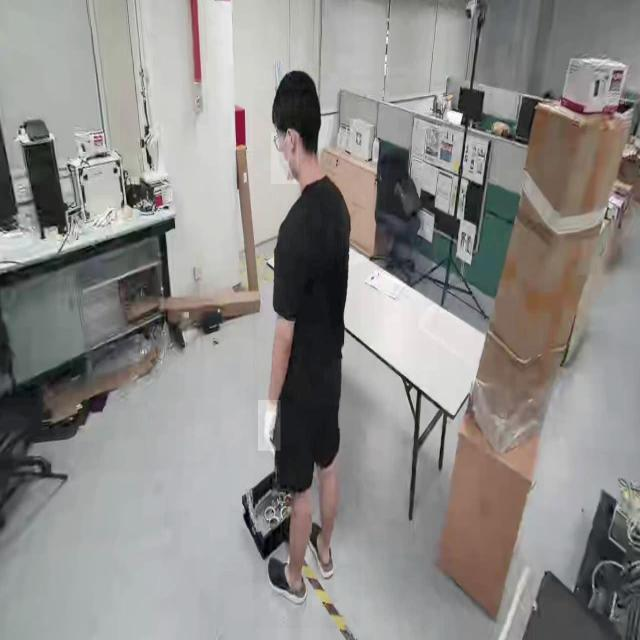face_mask: (271, 132, 299, 184)
hand_glove: (258, 400, 281, 452)
head_nohelmet: (272, 68, 320, 110)
person: (253, 90, 361, 629)
shoes: (264, 550, 310, 609), (303, 514, 338, 580)
